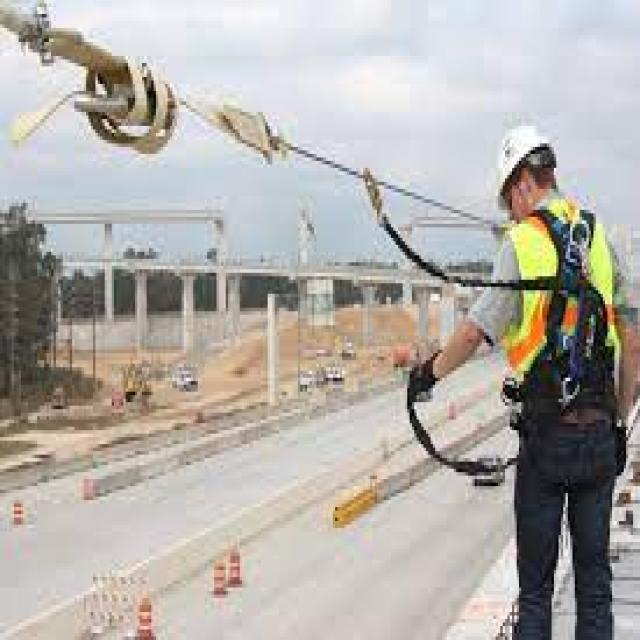harness: (361, 160, 589, 304)
